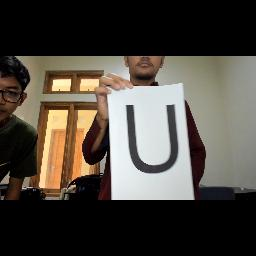u: (124, 102, 184, 176)
